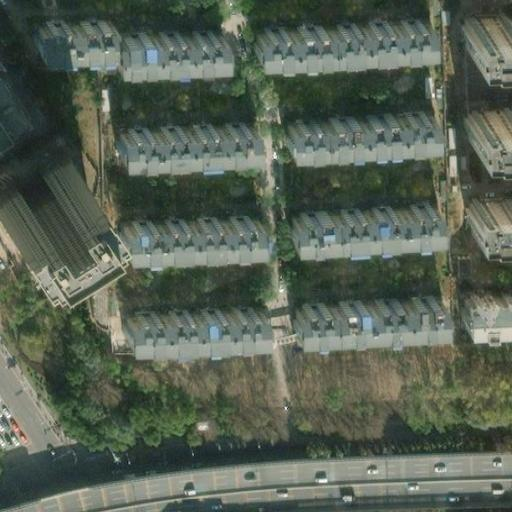building: (242, 12, 419, 56), (280, 197, 429, 241), (275, 102, 424, 145), (121, 300, 260, 340), (106, 115, 244, 155), (116, 204, 254, 244), (286, 288, 435, 325), (0, 128, 64, 212), (104, 21, 213, 60), (23, 11, 104, 49), (453, 281, 512, 321), (462, 194, 509, 228), (451, 8, 498, 41), (453, 102, 500, 135), (498, 7, 512, 44), (499, 101, 512, 138)
